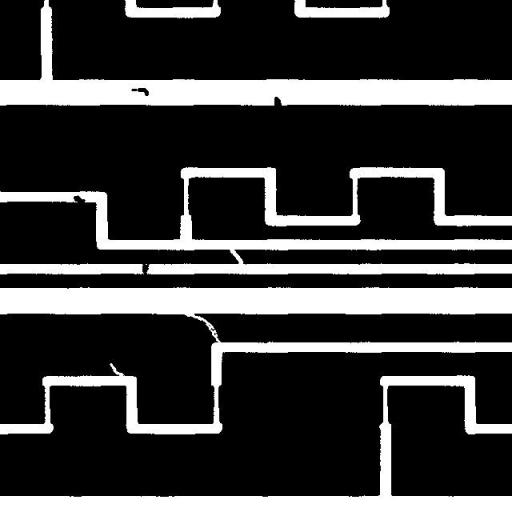copper: (123, 80, 156, 103)
mousebite: (102, 355, 132, 385)
open: (176, 305, 228, 350), (222, 238, 250, 274)
short: (132, 248, 157, 290)
spur: (66, 187, 92, 214), (266, 89, 289, 115)
